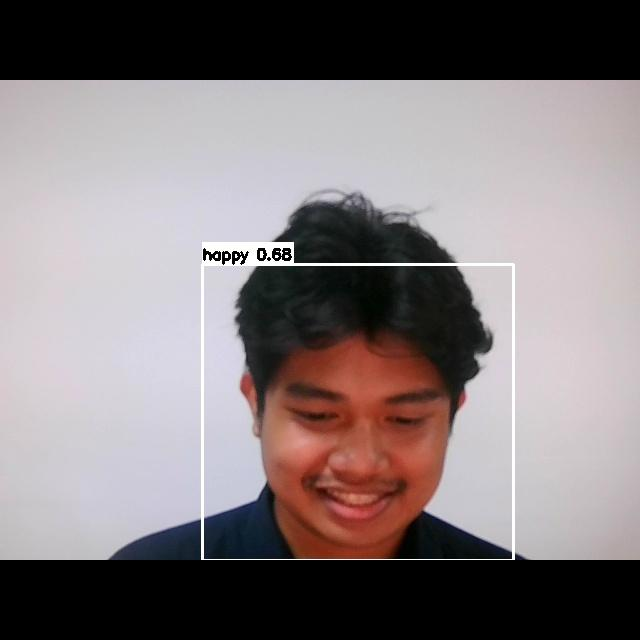Happy: (258, 357, 461, 525)
